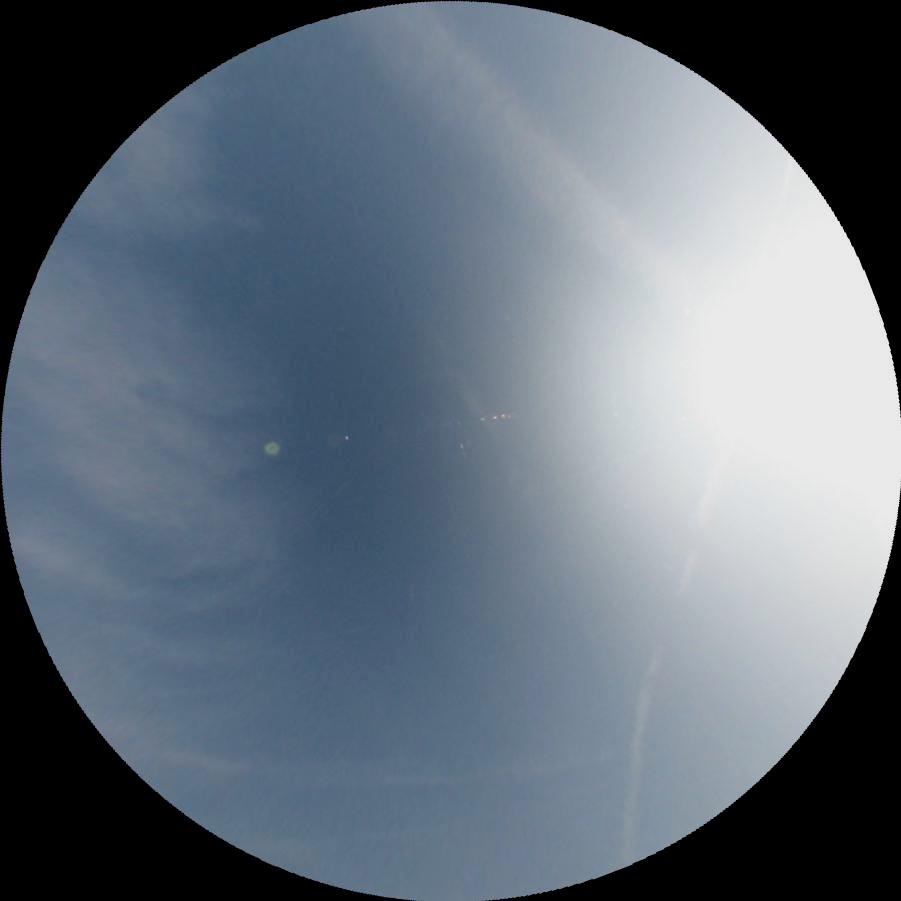contrail old: (598, 450, 726, 864)
contrail veryold: (323, 0, 708, 352), (145, 728, 624, 805)
